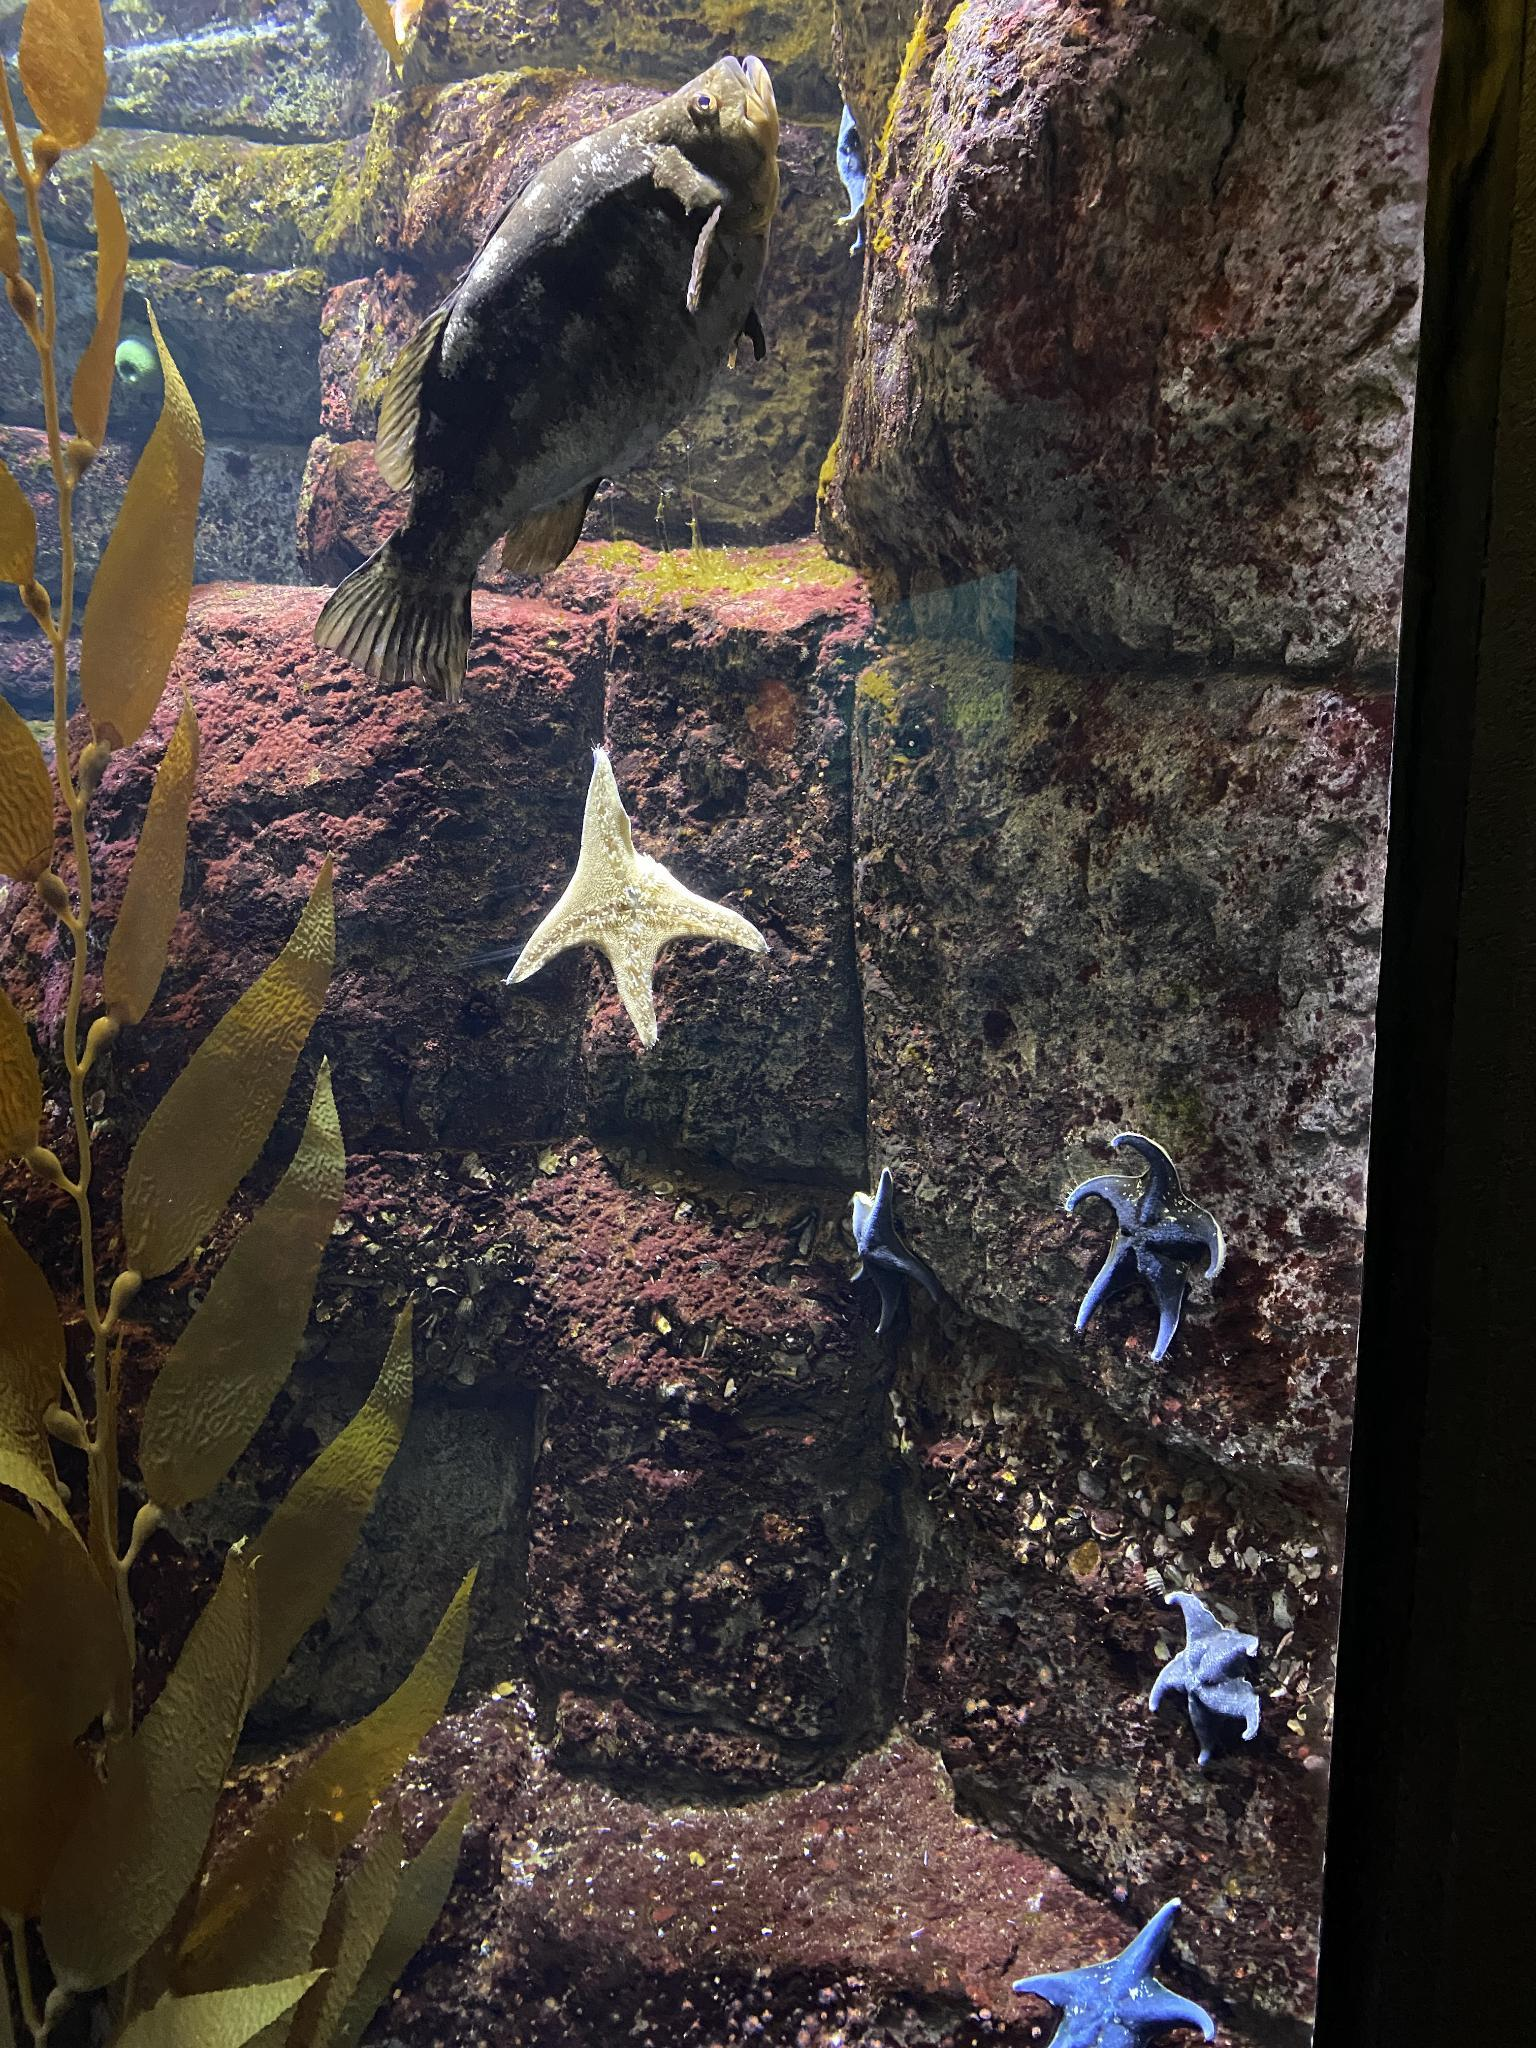fish: (308, 52, 781, 693)
starfish: (499, 748, 765, 1043), (1055, 1127, 1228, 1364), (1020, 1896, 1225, 2048), (1144, 1588, 1267, 1763), (841, 1171, 933, 1343)
